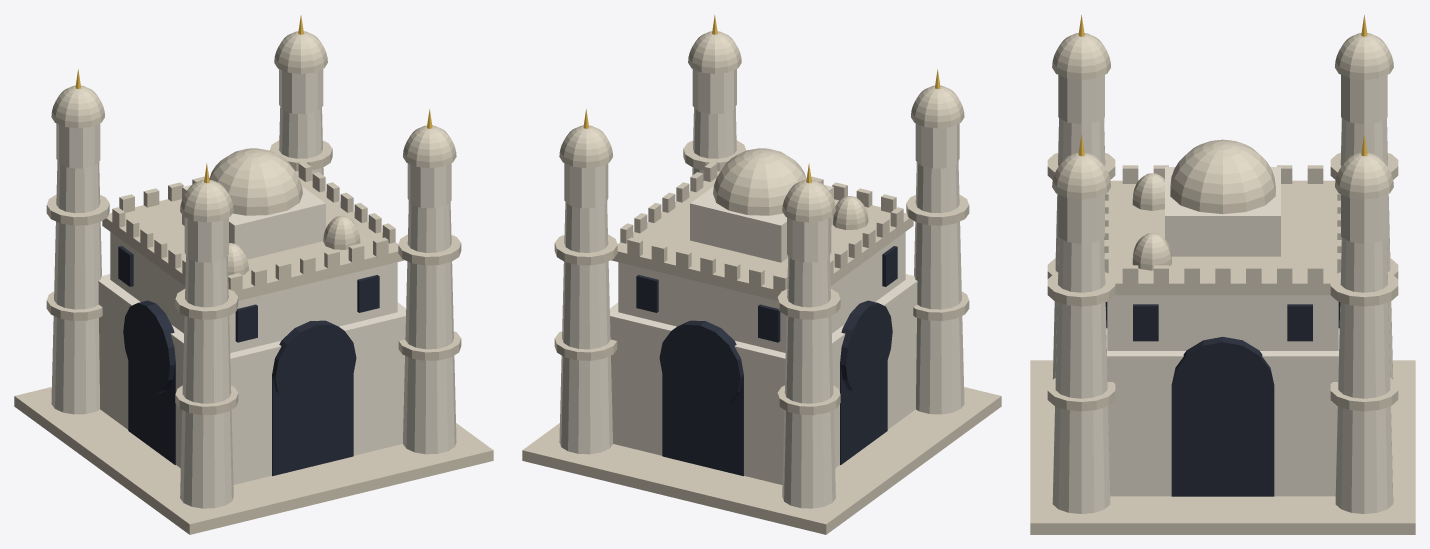
The model's file is charminar.glb.
3 views of the same model, side by side, from view 1: azimuth 30°, elevation 25°; view 2: azimuth 150°, elevation 25°; view 3: azimuth 270°, elevation 25° (orthographic). The views are drawn at different scales.
Parts seen in each view (by area): view 1: charminar; view 2: charminar; view 3: charminar.
Part boxes in pixels (box(x1,y1,x2,y2)): charminar: box(14, 15, 493, 534); charminar: box(522, 15, 1001, 534); charminar: box(1030, 15, 1415, 534).
Size of the model in its own units: 3.68 by 4 by 3.68.
